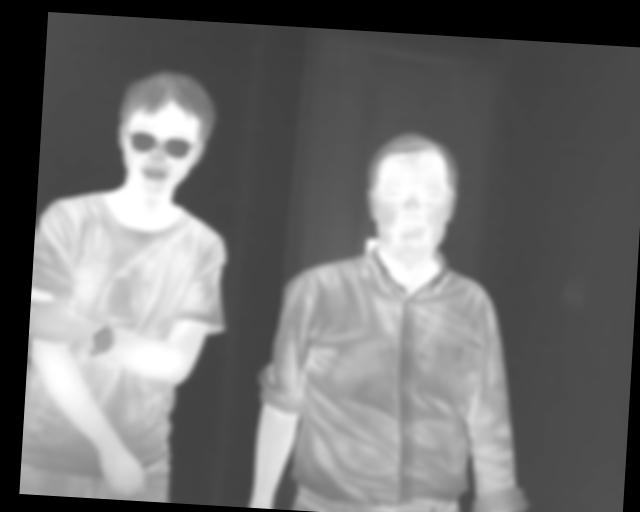face: (361, 128, 460, 270), (113, 69, 215, 201)
